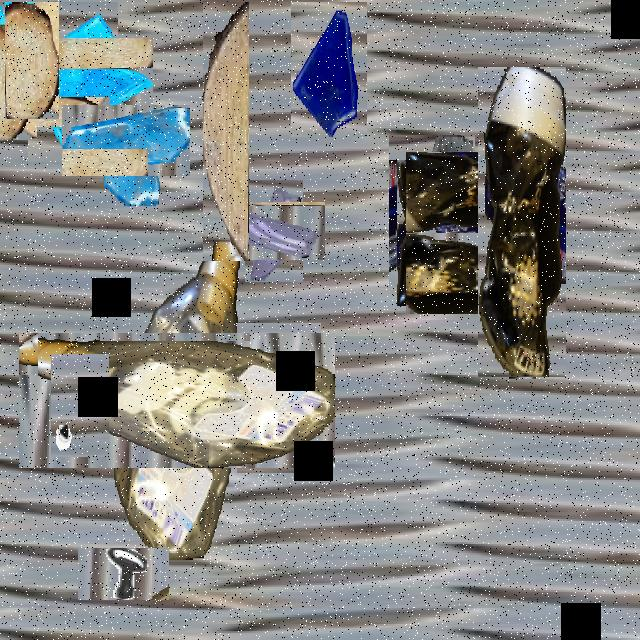glass: (10, 19, 136, 144), (389, 135, 475, 288), (237, 323, 321, 473), (291, 2, 367, 137), (76, 90, 176, 190), (234, 191, 314, 271)
metal: (51, 354, 109, 457), (87, 538, 159, 610)
plastic: (64, 287, 290, 513), (478, 67, 566, 377), (401, 156, 555, 310)
wood: (203, 2, 249, 261), (5, 2, 59, 119), (0, 2, 37, 140)
